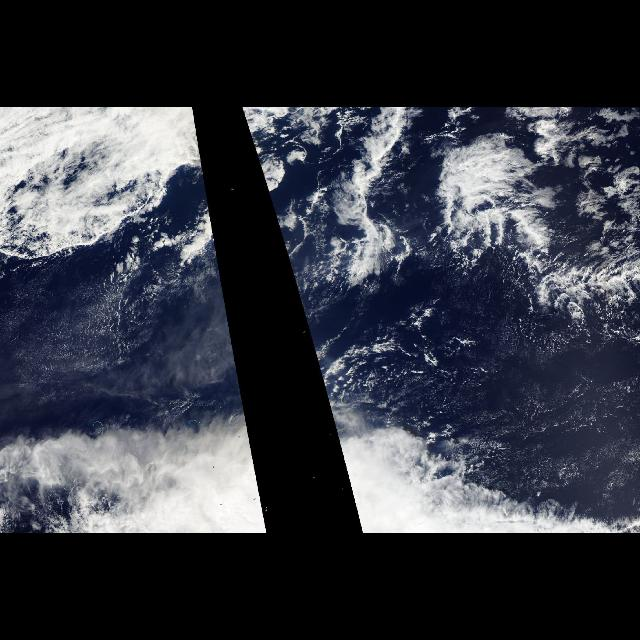Fish: (306, 130, 550, 294)
Sugar: (450, 310, 640, 494), (1, 256, 209, 416)
